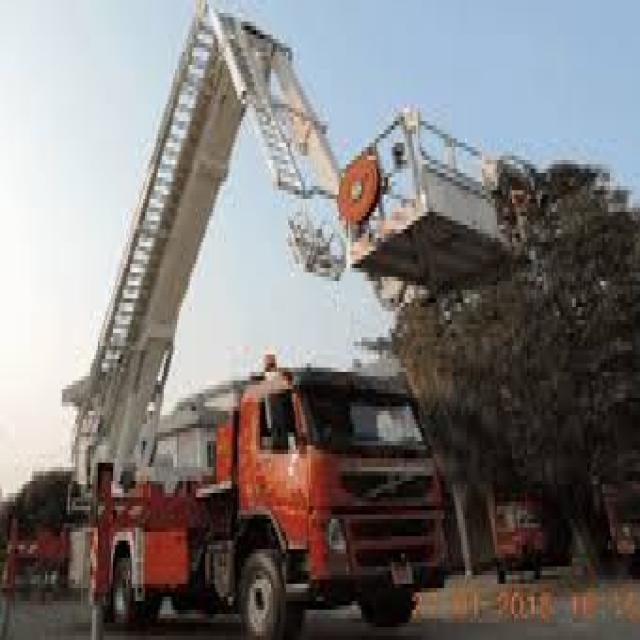Fire_brigade: (52, 333, 452, 640)
